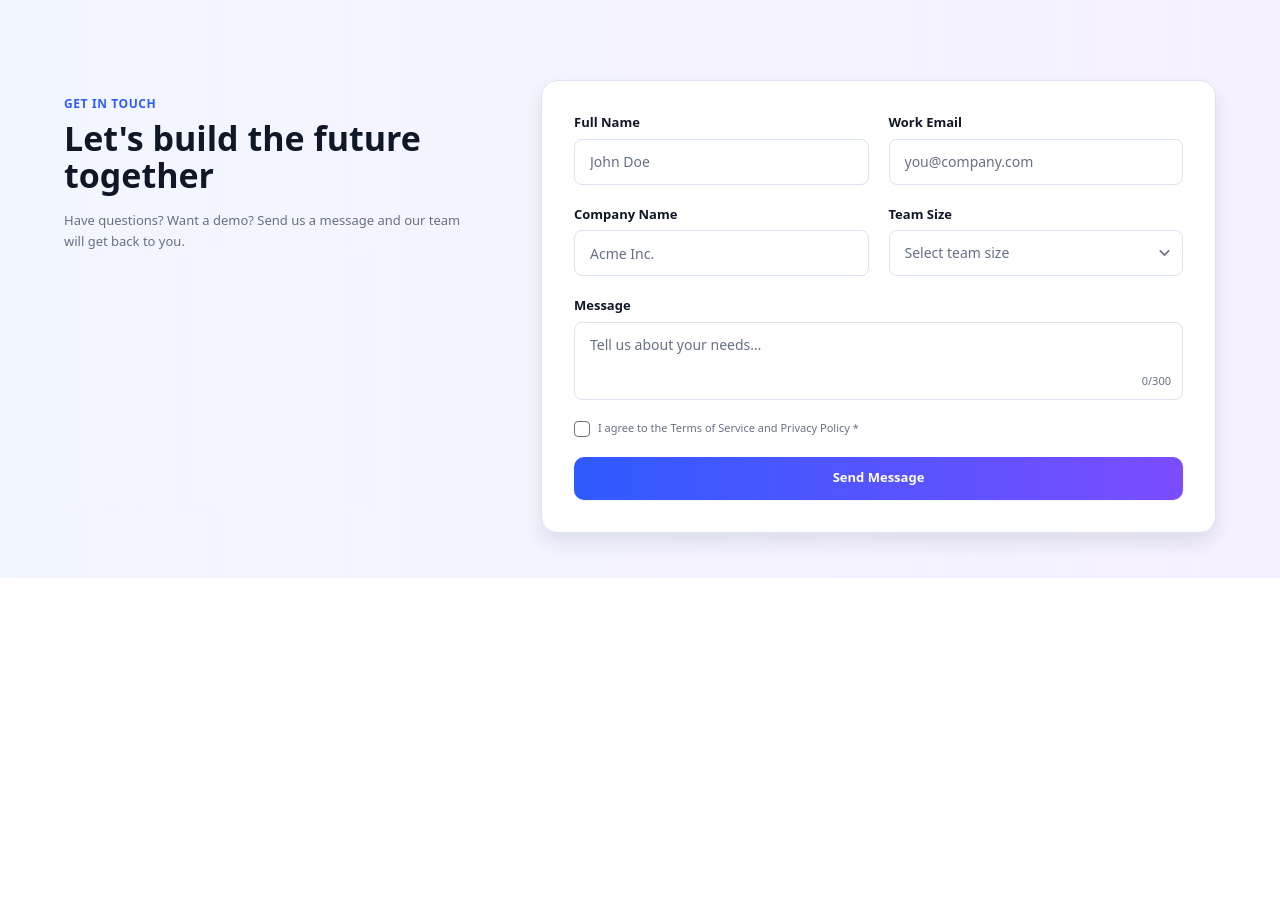
Scenario: ContactForm › does not submit an empty form and shows errors
Step 1. Click the button "Send Message" → (878, 478), box [574, 456, 1183, 500]
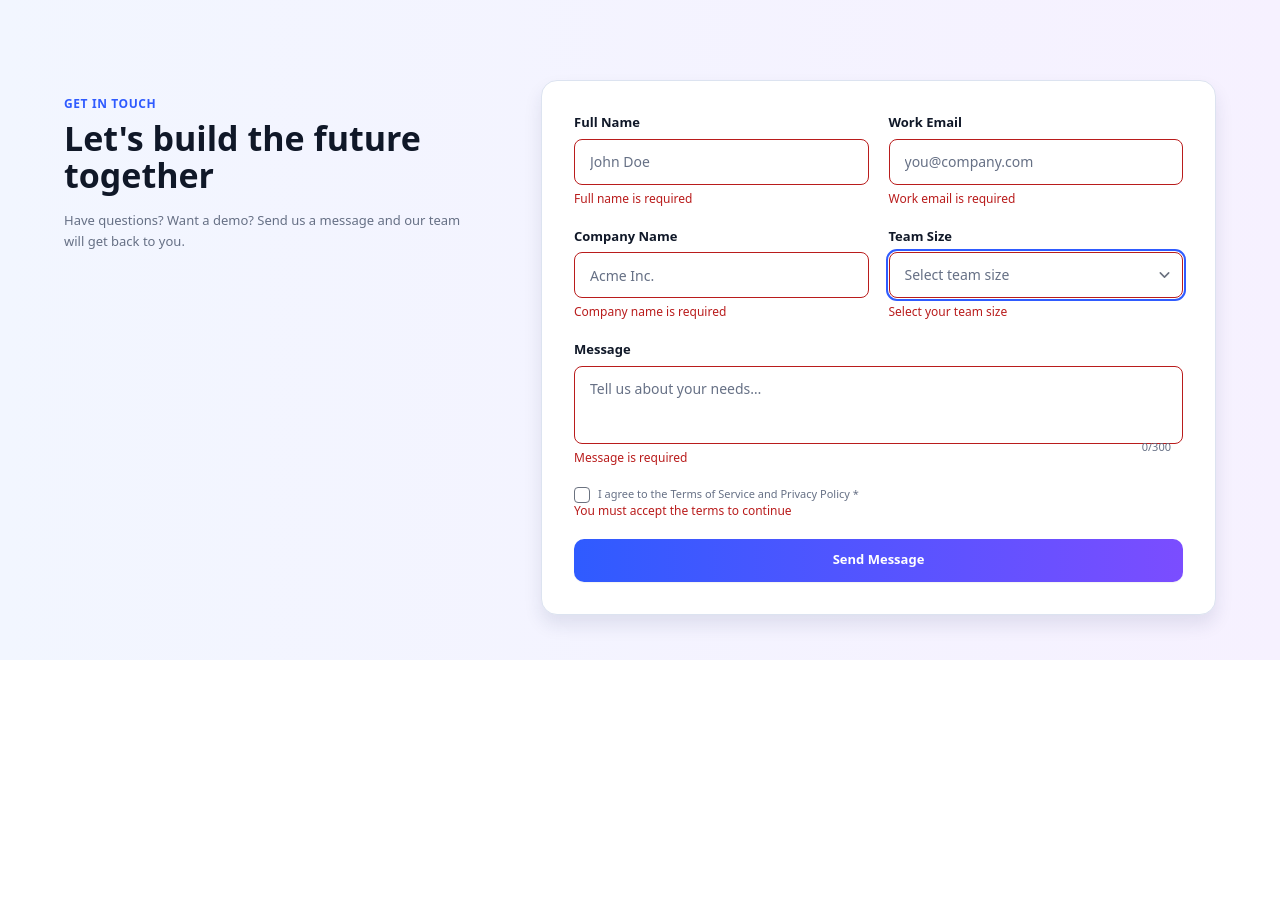
Expected: the text "Full name is required" is shown, [574, 190, 692, 206]
Expected: the text "Work email is required" is shown, [888, 190, 1015, 206]
Expected: the text "You must accept the terms to continue" is shown, [574, 502, 792, 518]
